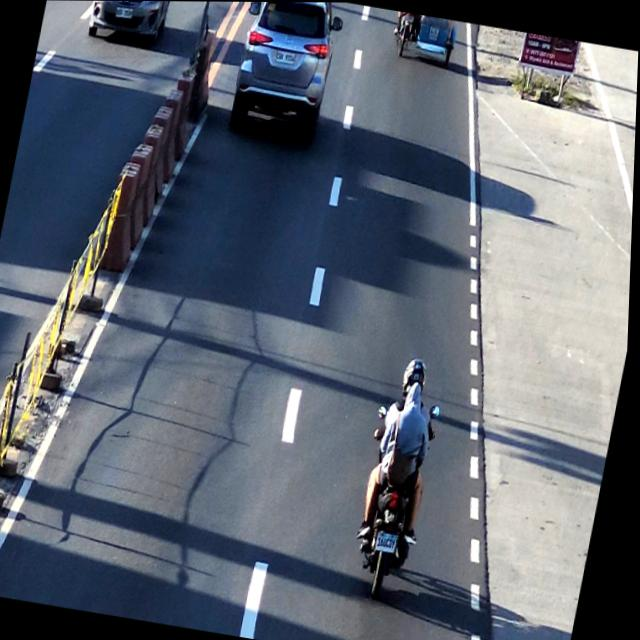Car: (227, 1, 343, 141)
License-Plate: (376, 525, 406, 559), (274, 49, 297, 67)
Motorcycle: (347, 358, 454, 603)
Tricycle: (388, 11, 461, 67)
